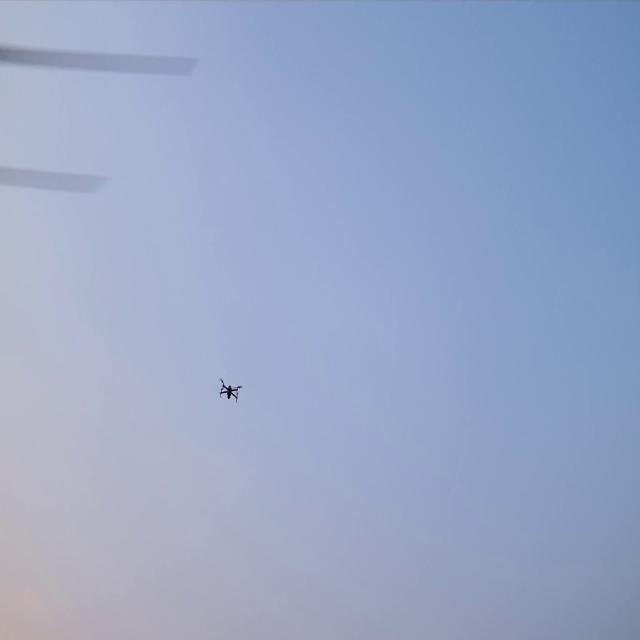UAV: (217, 376, 243, 403)
